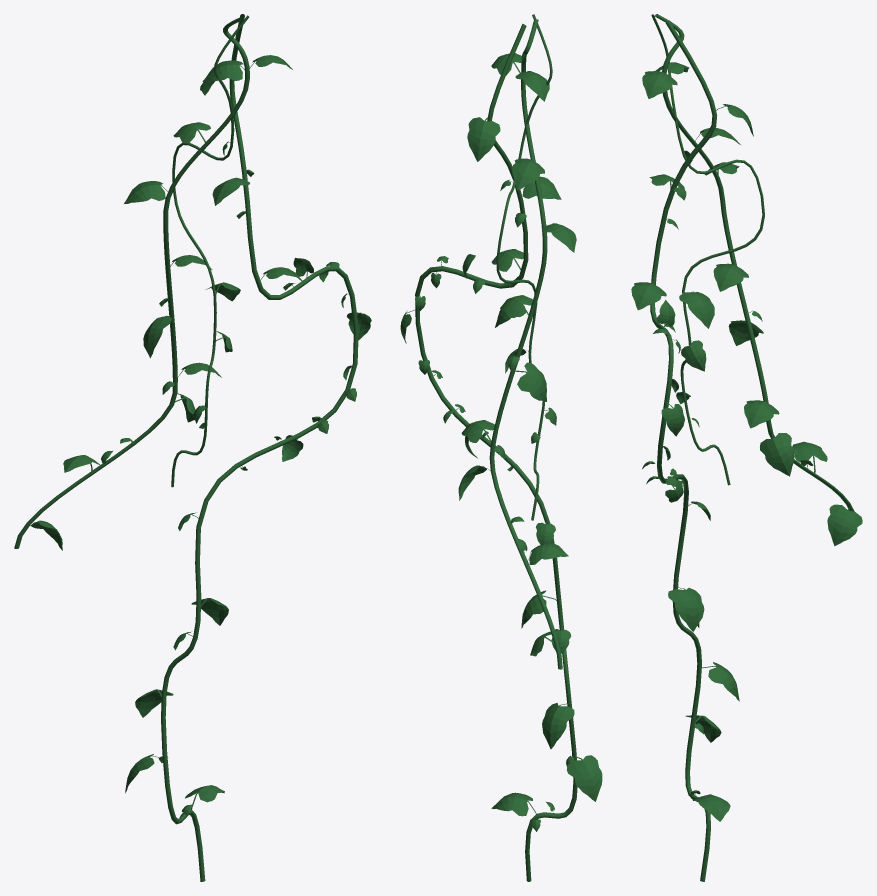
Rendered from plantequitombe2.fbx.
The picture shows the model from 3 angles, left to right: view 1: azimuth 30°, elevation 25°; view 2: azimuth 150°, elevation 25°; view 3: azimuth 270°, elevation 25°; orthographic projection. The views are drawn at different scales.
Visible parts, largest first — view 1: plante qui tombe 2; view 2: plante qui tombe 2; view 3: plante qui tombe 2.
Part boxes in pixels (x1,y1,x2,y2): plante qui tombe 2: (14, 14, 371, 881); plante qui tombe 2: (400, 14, 602, 881); plante qui tombe 2: (631, 14, 862, 881).
Bounding box in the file's own units: 25.09 × 19.28 × 80.67.
